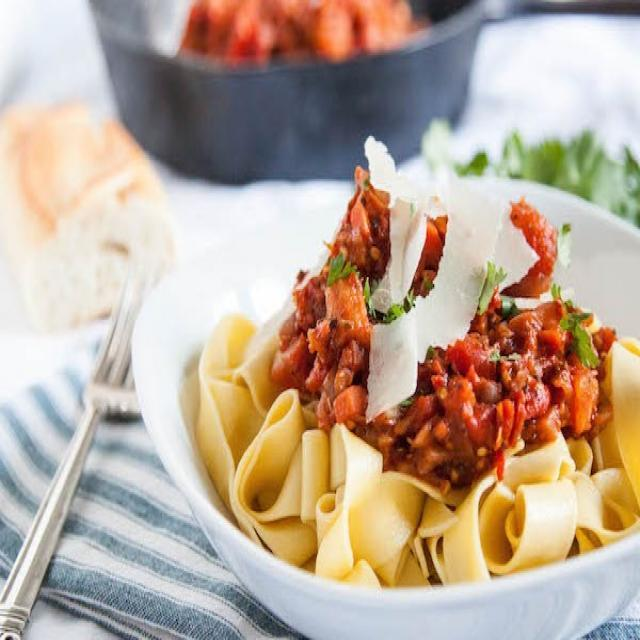Pasta al ragu: (177, 93, 631, 599)
